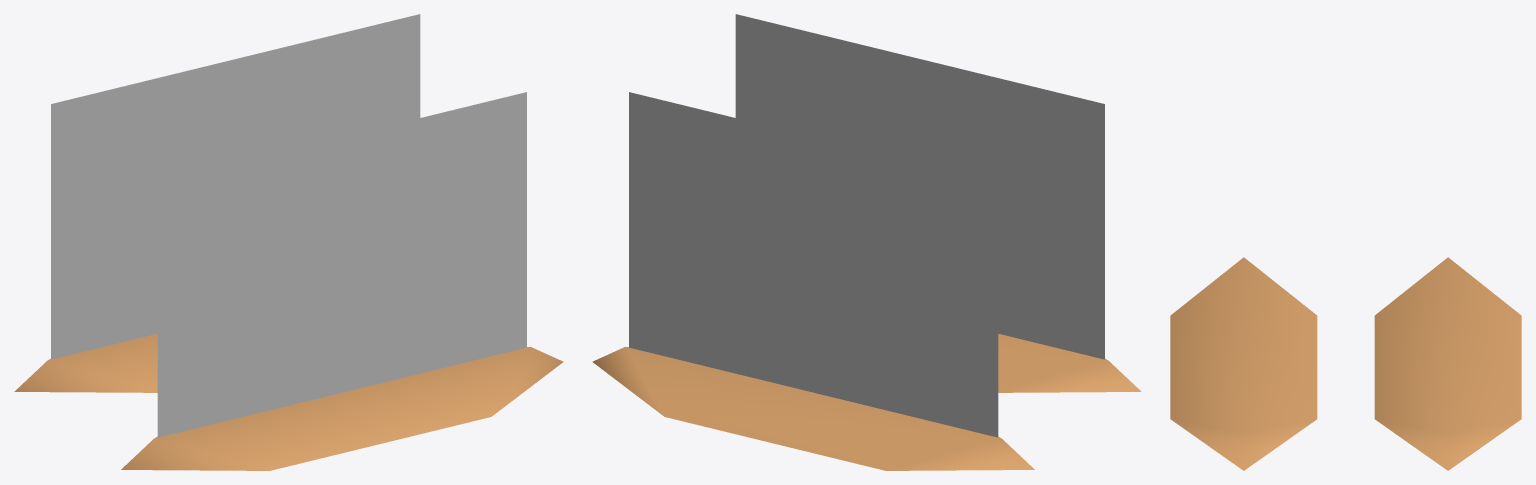
Rendered from Bulrush.fbx.
3 renders of one model, left to right at view 1: azimuth 30°, elevation 25°; view 2: azimuth 150°, elevation 25°; view 3: azimuth 270°, elevation 25°, orthographic. The views are drawn at different scales.
Visible parts, largest first — view 1: Bulrush, Bulrush1, pPlane2, pPlane3; view 2: Bulrush1, Bulrush, pPlane3, pPlane2; view 3: pPlane2, pPlane3.
Part boxes in pixels (x1,y1,x2,y2): Bulrush: (157,92,526,437); Bulrush1: (51,14,420,359); pPlane2: (121,346,563,470); pPlane3: (14,334,157,392); Bulrush1: (629,92,998,437); Bulrush: (735,14,1104,359); pPlane3: (592,346,1034,470); pPlane2: (998,334,1141,392); pPlane2: (1170,257,1317,470); pPlane3: (1374,257,1521,470).
Size of the model in its own units: 1.2 by 0.7215 by 0.86.
